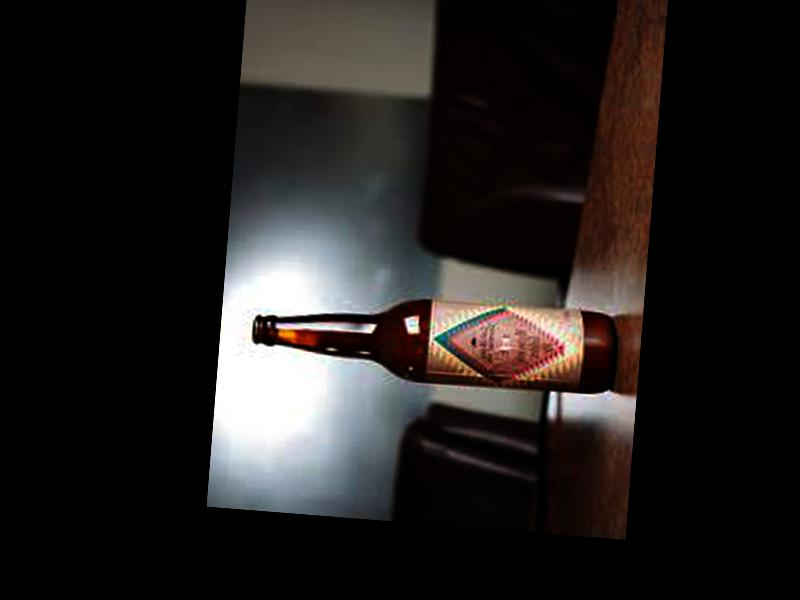Beer: (252, 288, 617, 395)
